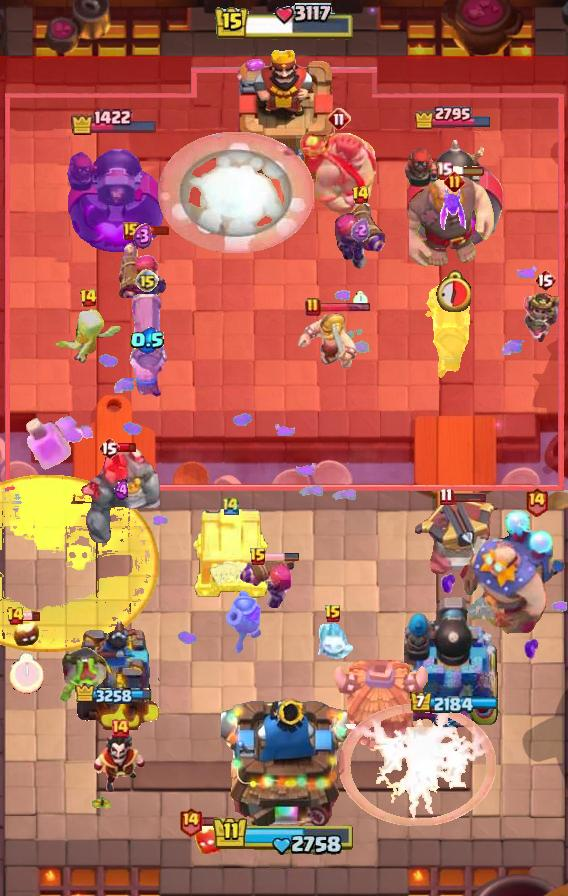balloon: (409, 173, 497, 271)
bar-level: (59, 644, 109, 704)
barbarian: (439, 187, 469, 231)
barbarian-evolution: (338, 704, 497, 826)
bat: (312, 623, 354, 669)
battle-healer: (425, 277, 471, 381), (124, 294, 170, 398)
bomb: (191, 505, 271, 599)
bomb-tower: (226, 588, 264, 654)
bomber: (193, 823, 225, 857), (12, 619, 40, 647)
bomber-evolution: (520, 289, 568, 351)
cannoneer-tower: (77, 444, 167, 546)
clock: (212, 815, 356, 857), (213, 3, 355, 43)
electro-spirit: (130, 326, 165, 353), (133, 223, 153, 250), (351, 218, 370, 242), (114, 479, 130, 501)
elixir: (435, 270, 471, 312), (9, 653, 44, 694), (353, 291, 367, 309)
emote: (319, 302, 371, 314), (450, 165, 486, 177), (451, 491, 487, 503), (136, 224, 170, 235), (264, 552, 300, 562), (118, 442, 138, 454), (22, 610, 42, 622), (200, 817, 219, 828)
goblin-giant: (294, 311, 360, 373)
king-tower: (221, 690, 347, 826), (229, 43, 339, 181)
knight-evolution: (26, 418, 72, 471)
lava-hound: (298, 127, 380, 223)
lava-pup: (414, 496, 502, 578)
little-prince: (460, 509, 568, 635)
lumberjack: (92, 732, 148, 796)
mega-minion: (333, 197, 387, 271), (236, 553, 304, 609), (115, 236, 171, 298)
phoenix-egg: (0, 474, 160, 652)
poison: (45, 297, 131, 373)
prince: (329, 660, 431, 756)
queen-tower: (66, 617, 162, 731)
selected: (69, 108, 158, 136), (410, 692, 499, 715), (413, 103, 493, 128), (74, 683, 154, 707)
text: (524, 487, 548, 518), (178, 807, 202, 838), (327, 107, 351, 131), (135, 269, 159, 293), (534, 268, 556, 292), (98, 436, 120, 460), (444, 171, 465, 193), (221, 495, 241, 517), (6, 606, 26, 626), (110, 718, 130, 738), (351, 185, 370, 205), (79, 288, 98, 308), (249, 547, 267, 567), (324, 604, 342, 624), (435, 161, 453, 179), (305, 297, 321, 317), (123, 222, 139, 240), (438, 486, 453, 505)
tower-bar: (404, 593, 502, 731), (401, 132, 508, 256), (62, 138, 166, 256)
wall-breaker: (158, 131, 314, 254)
